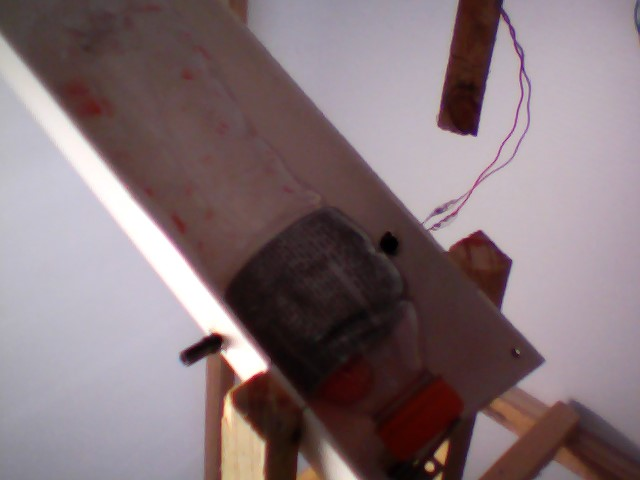plastico: (8, 1, 468, 466)
